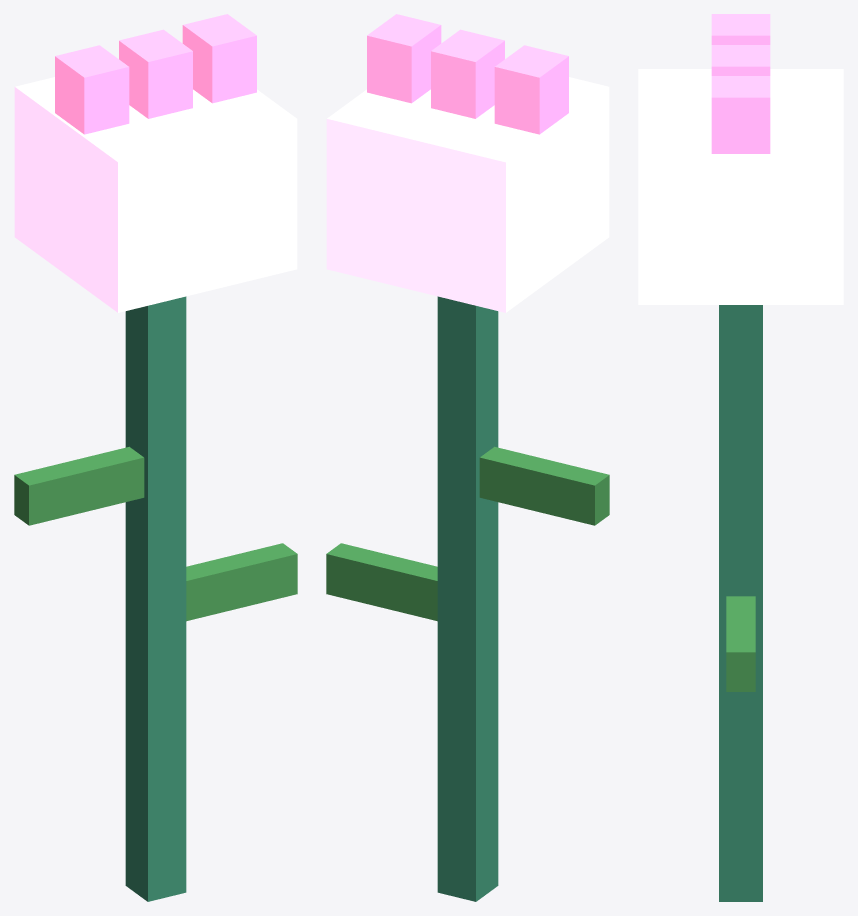
File: ncb-garden-lamp-flower.glb
3 renders of one model, left to right at view 1: azimuth 30°, elevation 25°; view 2: azimuth 150°, elevation 25°; view 3: azimuth 270°, elevation 25°, orthographic.
Visible parts, largest first — view 1: box-prop; view 2: box-prop; view 3: box-prop.
Part boxes in pixels (box(x1,y1,x2,y2)): box-prop: box(14, 14, 297, 901); box-prop: box(326, 14, 609, 901); box-prop: box(638, 14, 843, 901).
Bounding box in the file's own units: 0.84 × 2.52 × 0.56.
